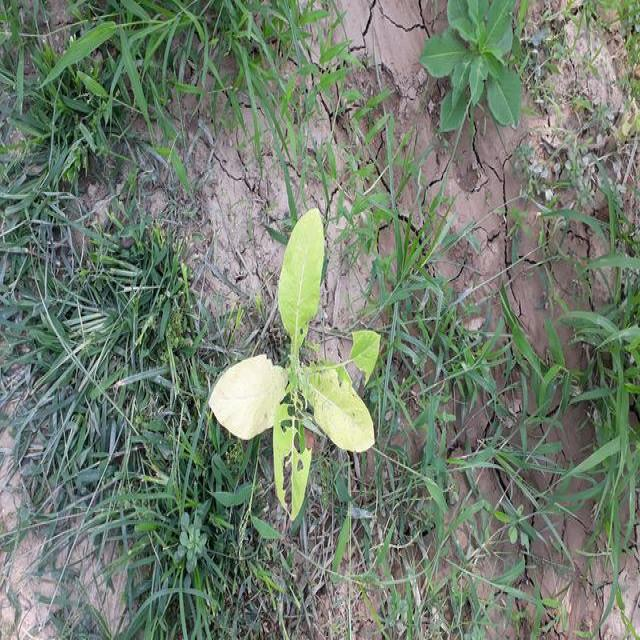crop: (200, 201, 390, 524)
